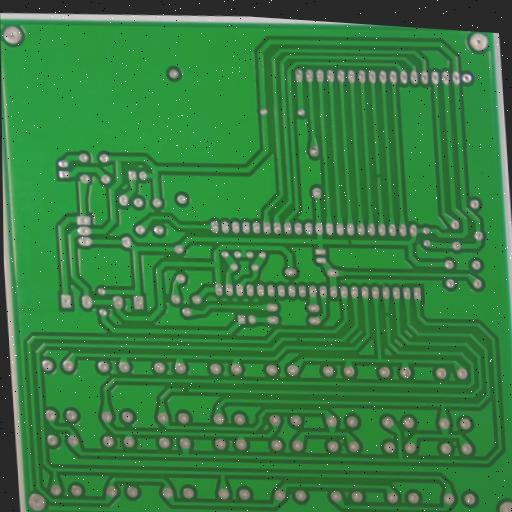open_circuit: (181, 384, 191, 395), (344, 237, 354, 247), (374, 171, 383, 181), (383, 309, 391, 320), (294, 335, 302, 343)
